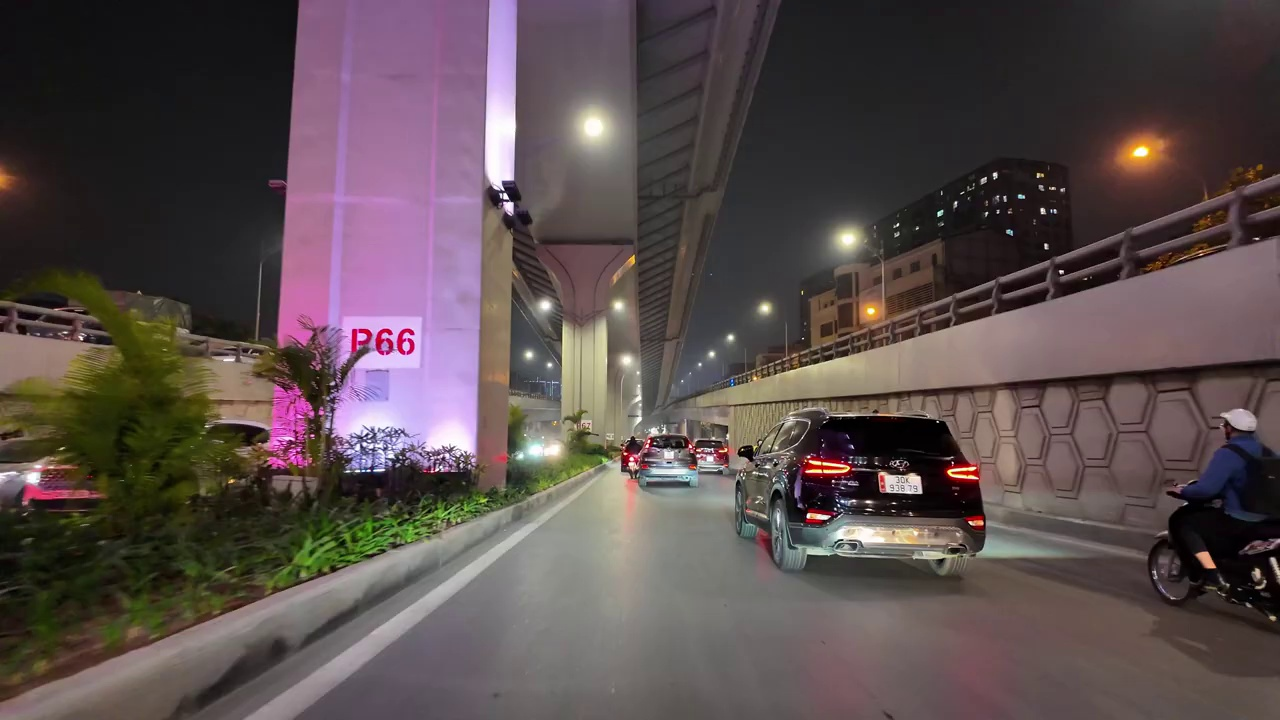acesa: (575, 108, 613, 146), (1123, 139, 1157, 166), (832, 225, 863, 254), (753, 297, 778, 321), (0, 167, 12, 193)
